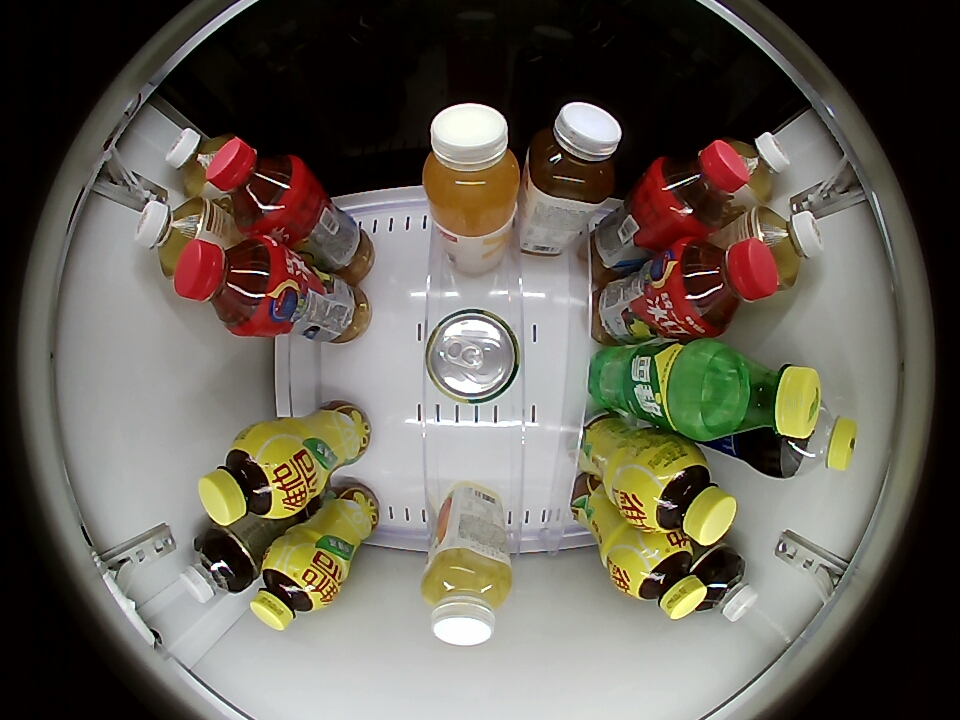baishikele: (775, 402, 856, 477)
binghongcha: (173, 235, 283, 335), (672, 236, 779, 337), (205, 136, 308, 234), (648, 139, 749, 235)
chapai: (525, 102, 622, 206)
chapai2: (421, 546, 512, 647)
rancha-2: (744, 205, 824, 290), (135, 197, 217, 276), (727, 131, 790, 205), (166, 127, 226, 200)
weic: (423, 103, 520, 234)
weitaningmeng-bottle: (629, 444, 737, 546), (199, 428, 302, 526), (619, 537, 706, 621), (250, 547, 334, 631)
wulongcha: (179, 532, 250, 604), (694, 551, 758, 621)
xuebi-b: (721, 353, 822, 441)
xuebi2: (425, 308, 520, 405)
